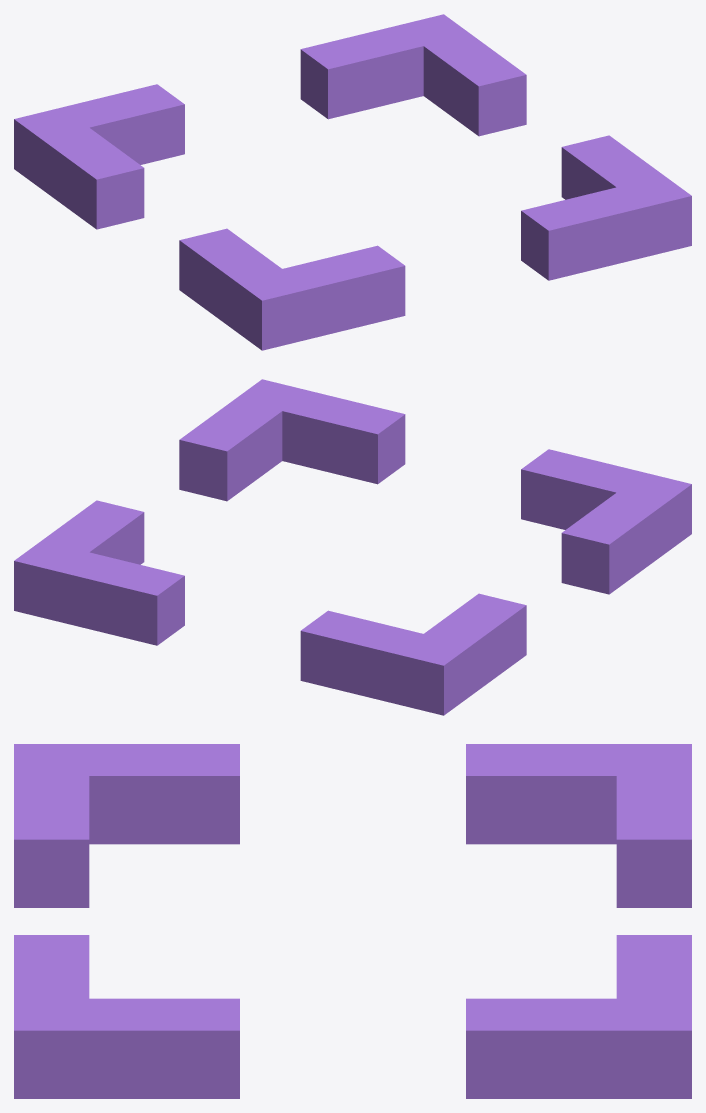
The model's file is Selector 4.obj.
3 views of the same model, one above another, from view 1: azimuth 30°, elevation 25°; view 2: azimuth 150°, elevation 25°; view 3: azimuth 270°, elevation 25° (orthographic). The views are drawn at different scales.
Bounding box in the file's own units: 0.9 × 0.1 × 0.9.
Materials: 1 (1 with a texture image).
